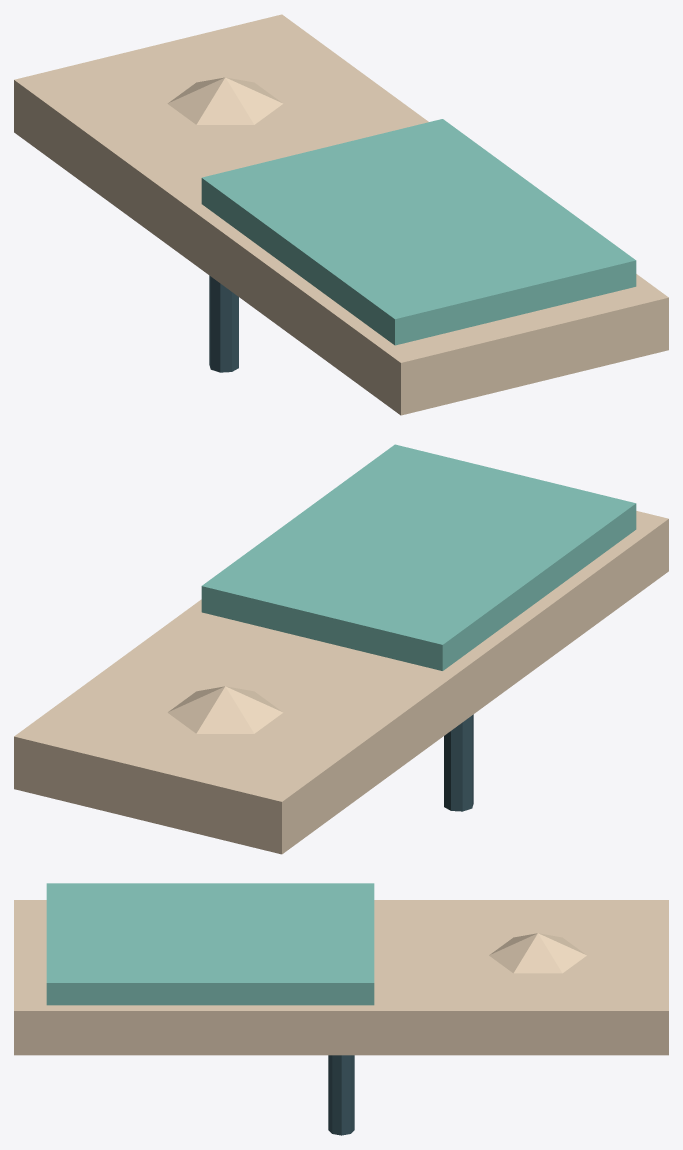
File: lounger.obj
3 views of the same model, one above another, from view 1: azimuth 30°, elevation 25°; view 2: azimuth 150°, elevation 25°; view 3: azimuth 270°, elevation 25° (orthographic). The views are drawn at different scales.
Parts seen in each view (by area): view 1: lounger; view 2: lounger; view 3: lounger.
Part boxes in pixels (x1,y1,x2,y2): lounger: [14, 14, 668, 415]; lounger: [14, 444, 668, 854]; lounger: [14, 883, 668, 1135].
Size of the model in its own units: 0.8 by 0.5 by 2.
